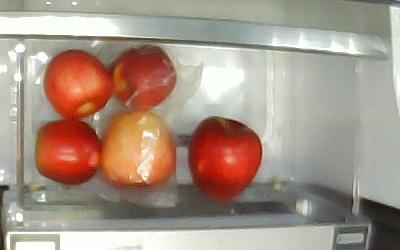apple: (187, 115, 263, 201), (43, 49, 112, 118), (35, 120, 101, 185)
apple_vinyl: (100, 112, 176, 189), (110, 45, 177, 113)
